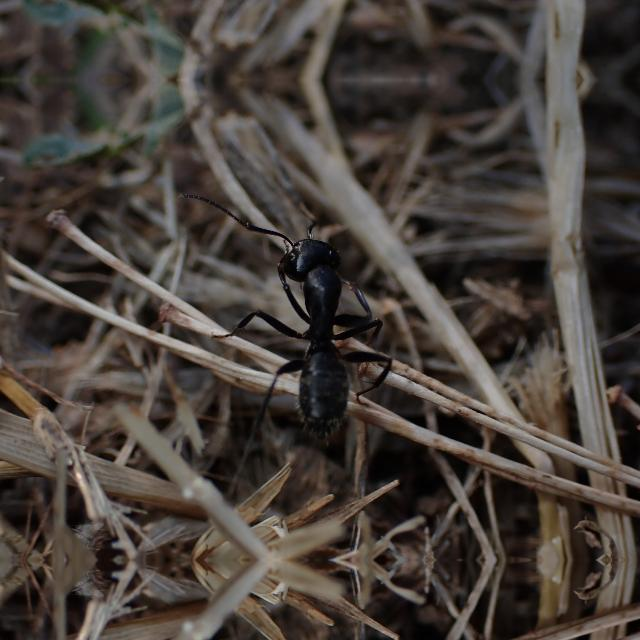Camponotus: (248, 200, 384, 444)
